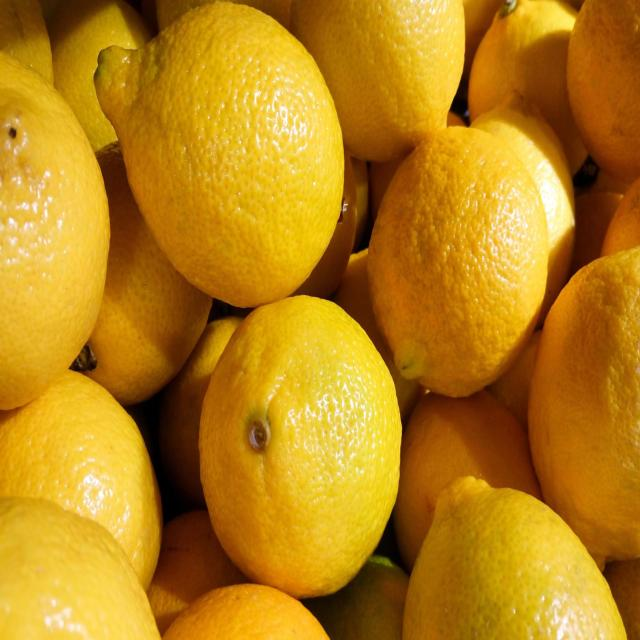lemon: (90, 0, 348, 318), (196, 289, 404, 600), (364, 125, 558, 402)
